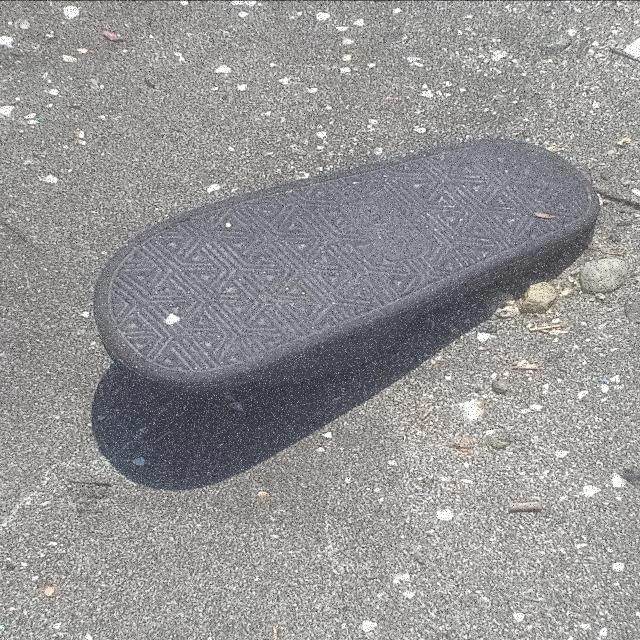rubber_waste: (95, 138, 600, 393)
